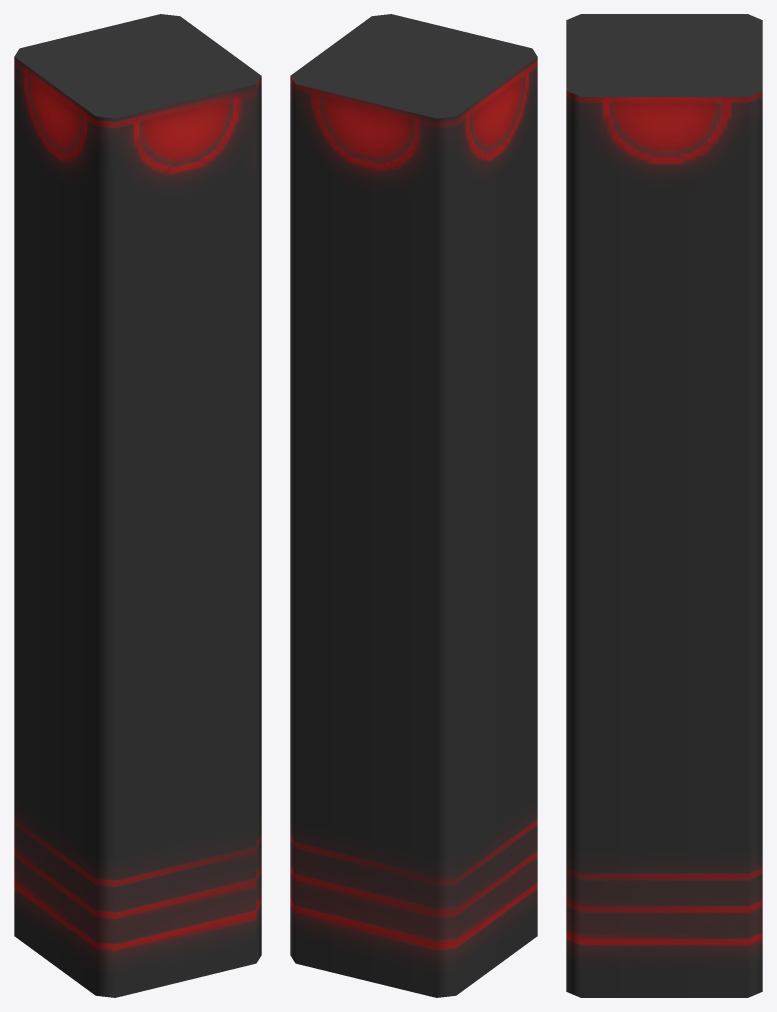
The model's file is Kabe_A_02.fbx.
The picture shows the model from 3 angles, left to right: view 1: azimuth 30°, elevation 25°; view 2: azimuth 150°, elevation 25°; view 3: azimuth 270°, elevation 25°; orthographic projection. The views are drawn at different scales.
Parts seen in each view (by area): view 1: Kabe_A_02; view 2: Kabe_A_02; view 3: Kabe_A_02.
Boxes of the visible parts, x1=… form: Kabe_A_02: x1=14, y1=14, x2=261, y2=997; Kabe_A_02: x1=290, y1=14, x2=537, y2=997; Kabe_A_02: x1=566, y1=14, x2=762, y2=997.
Bounding box in the file's own units: 111 × 562 × 111.
Materials: 1 (1 with a texture image).
